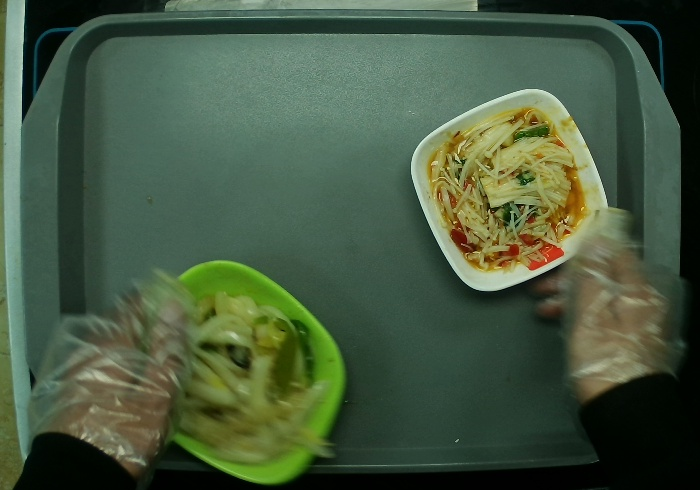SHKJ-Bai_Se_Xiao_Fang_Die: (407, 88, 613, 294)
SHKJ-Lv_Se_Cai_Die: (138, 256, 346, 487)
